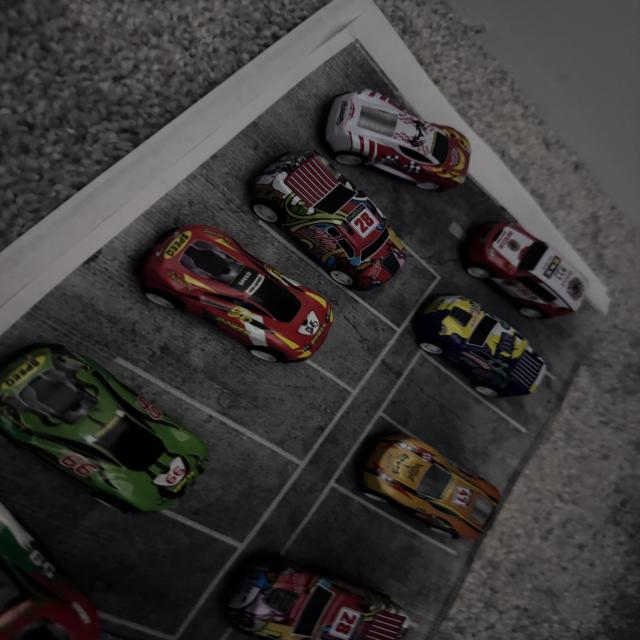Car: (93, 194, 325, 356), (0, 348, 284, 478), (235, 144, 442, 302), (326, 420, 568, 546), (452, 209, 640, 361), (161, 545, 412, 640), (410, 271, 572, 407), (323, 83, 474, 166)
